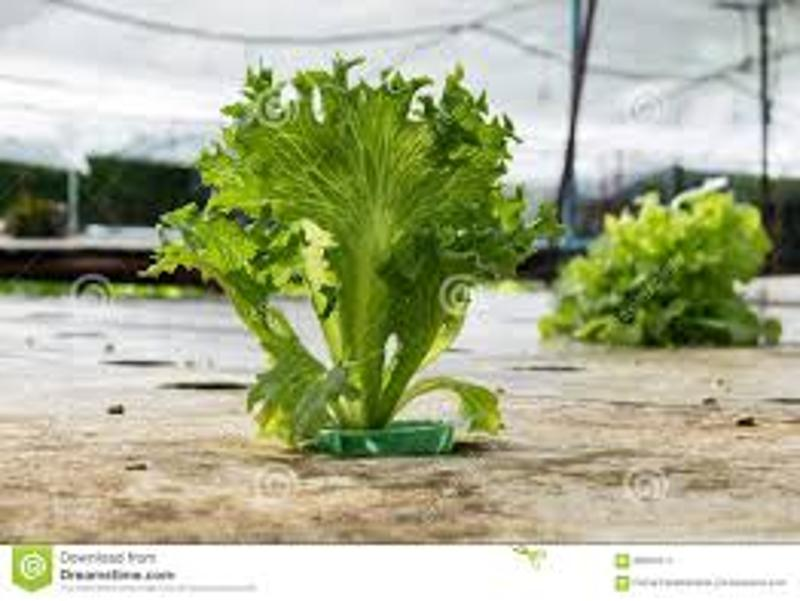green lettuce: (189, 54, 512, 435), (545, 172, 784, 346)
